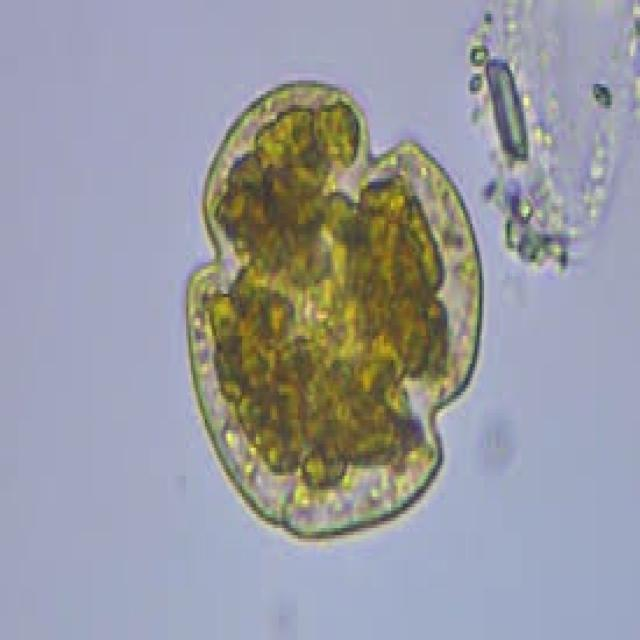Karenia: (176, 77, 490, 544)
